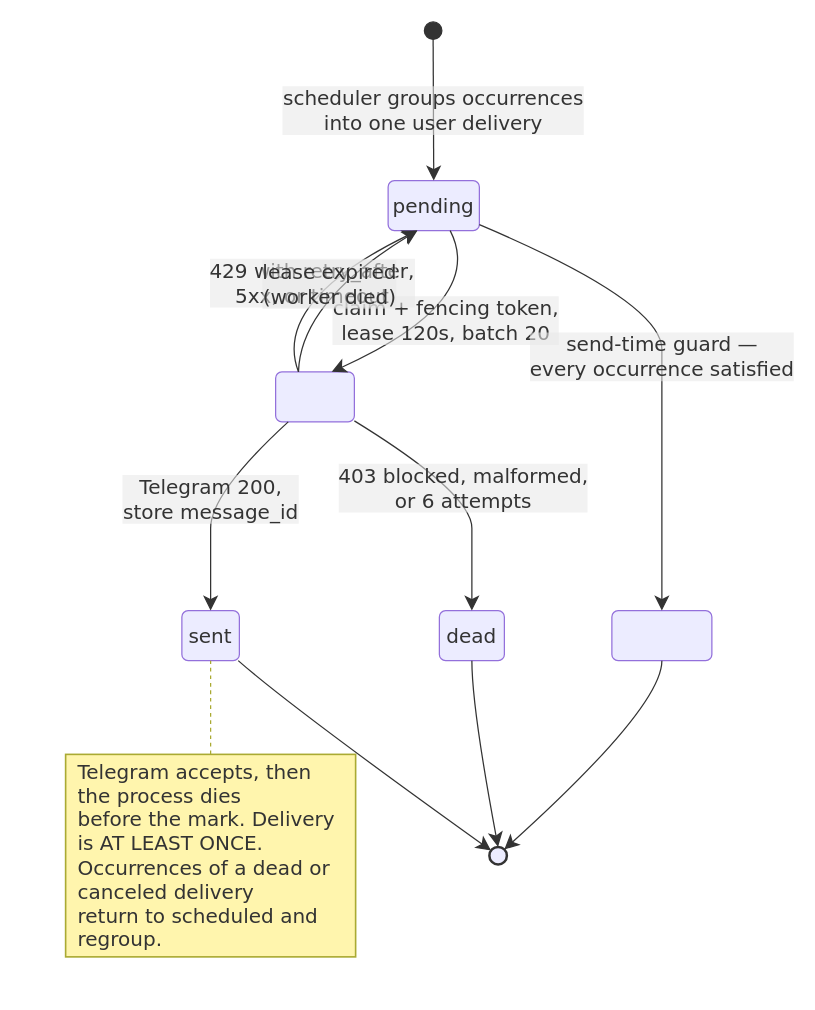
The diagram is 815 pixels wide and 1010 high, and some of its shapes have lost their labels. The centre of each missing label's shape, as x and y in pixels:
canceled: point (661, 635)
leased: point (314, 396)
